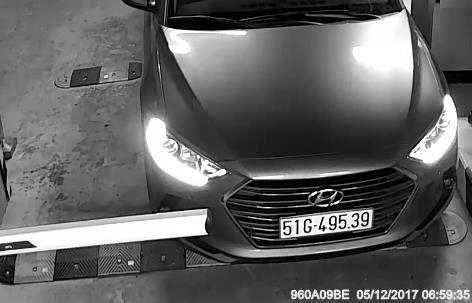License-plate: (265, 208, 390, 247)
